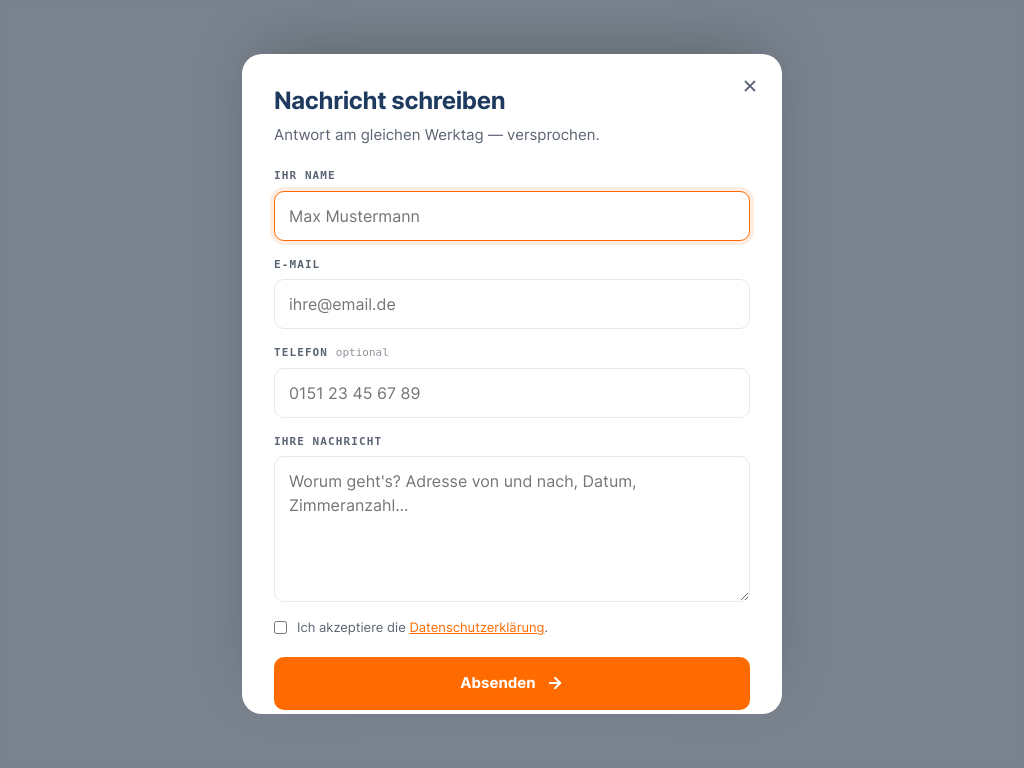
ContactFlowSheet — message form › success step confirms same-business-day reply for messages
In the field with placeholder "Max Mustermann": (512, 216) [274,191,750,241], type "Erika Muster"
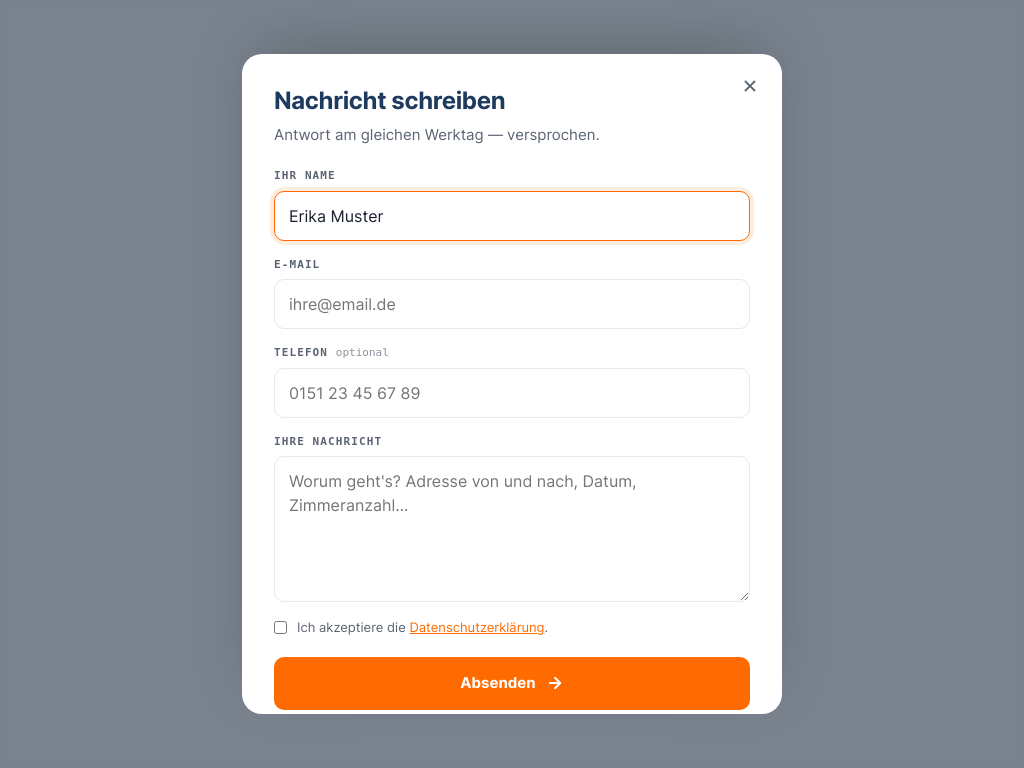
In the field with placeholder "ihre@email.de": (512, 304) [274,279,750,329], type "erika@example.de"
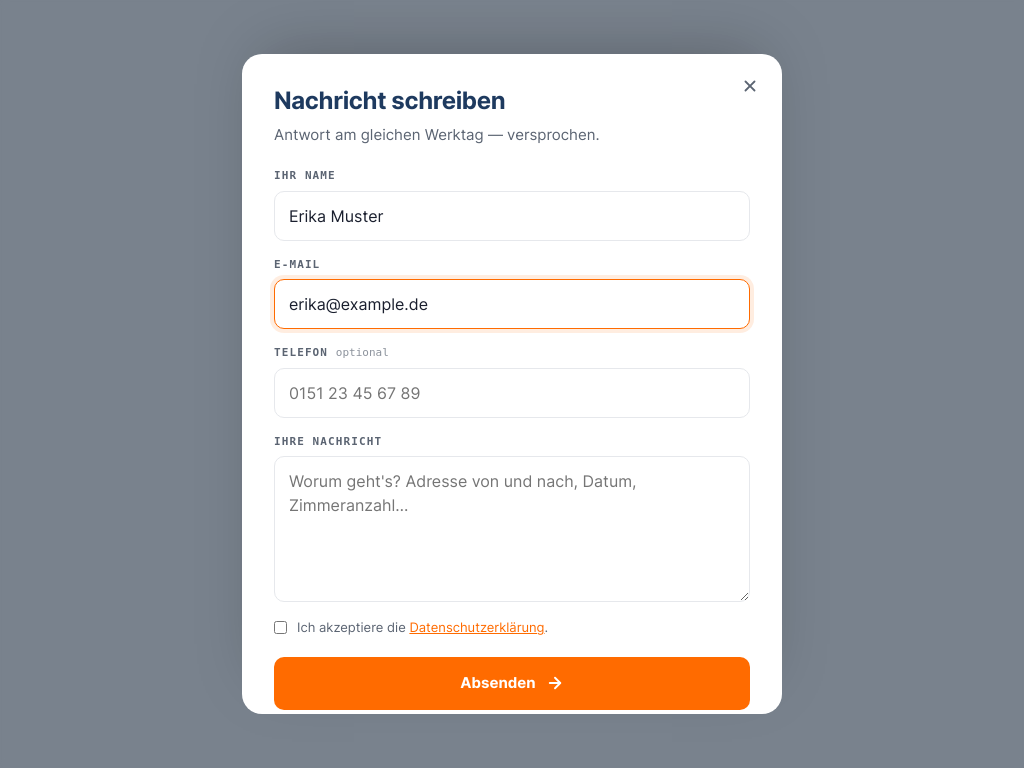
In the text box with placeholder "Worum geht's? Adresse von und nach, Datum, Zimmeranzahl…": (512, 529) [274,456,750,602], type "Umzug am 1.8."
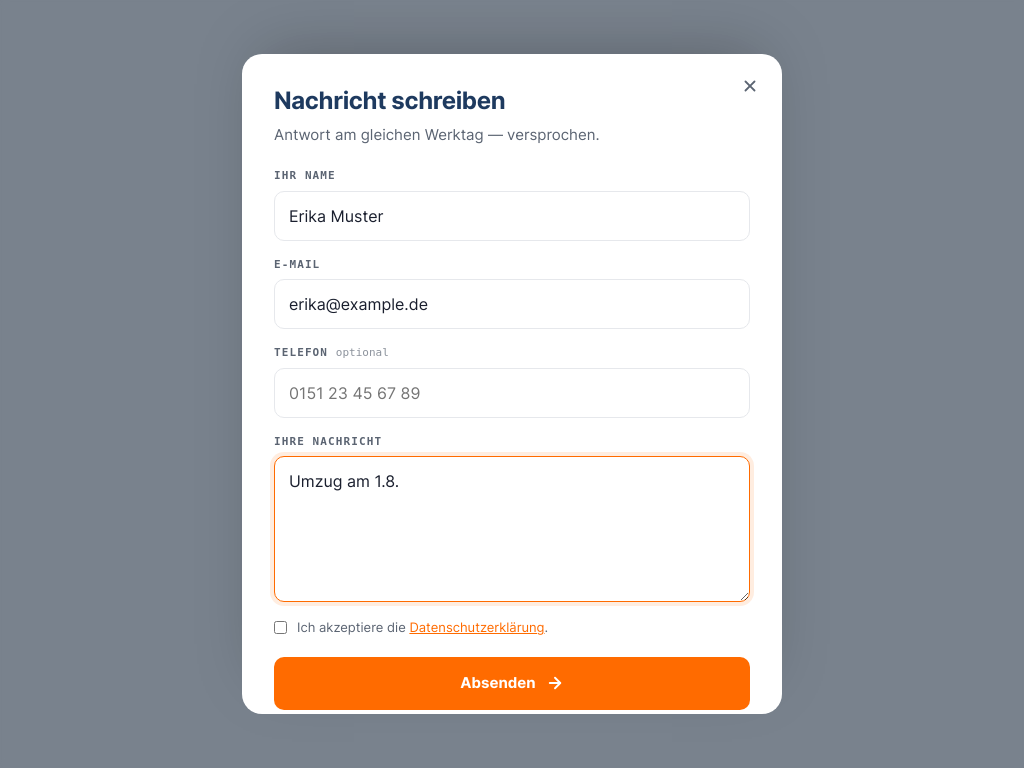
Click the checkbox: (280, 628) [274,621,287,634]
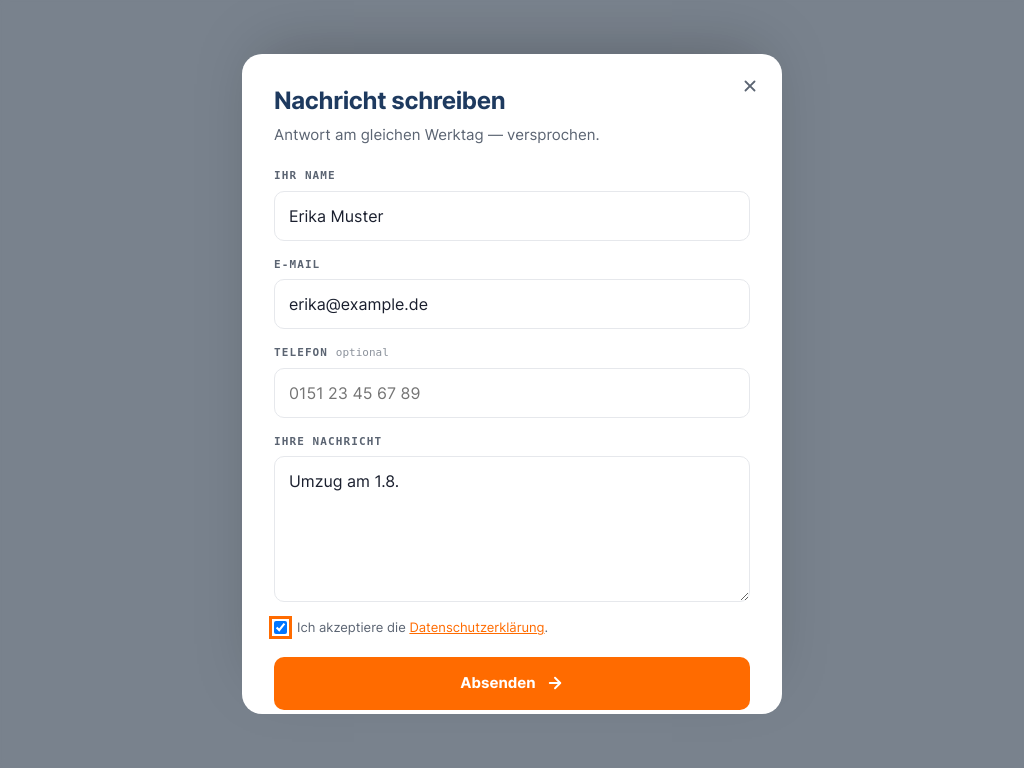
Click the button "Absenden": (512, 683) [274,657,750,710]
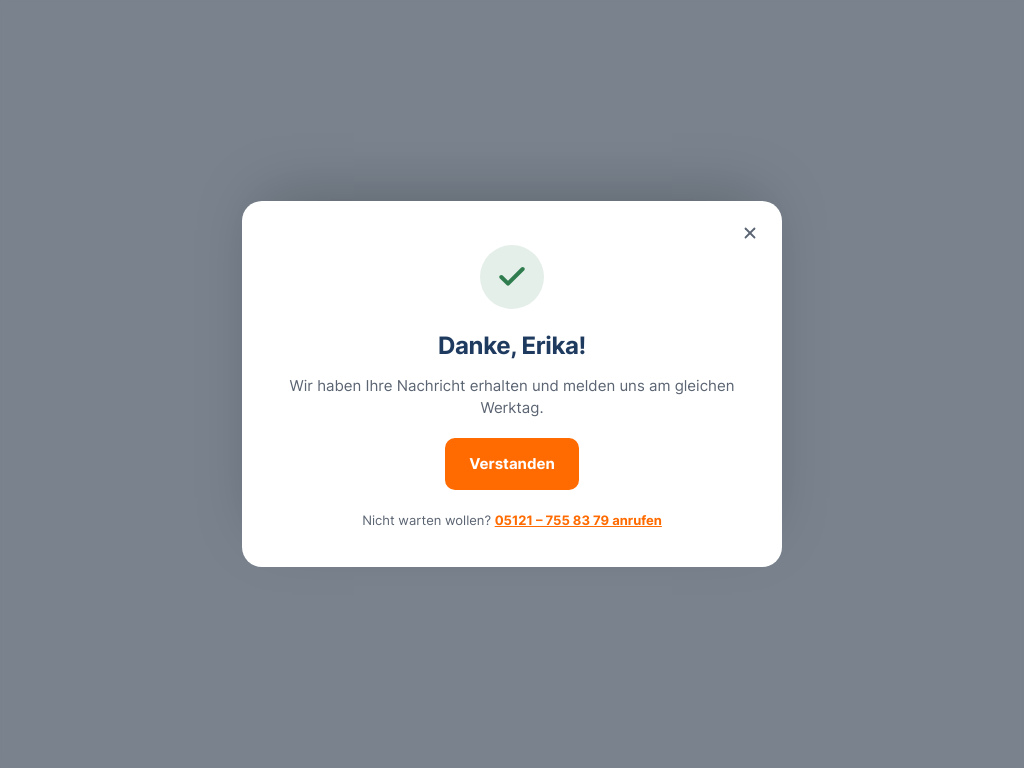
Result: the text "Wir haben Ihre Nachricht erhalten und melden uns am gleichen Werktag." is shown at [282,375,742,420]
